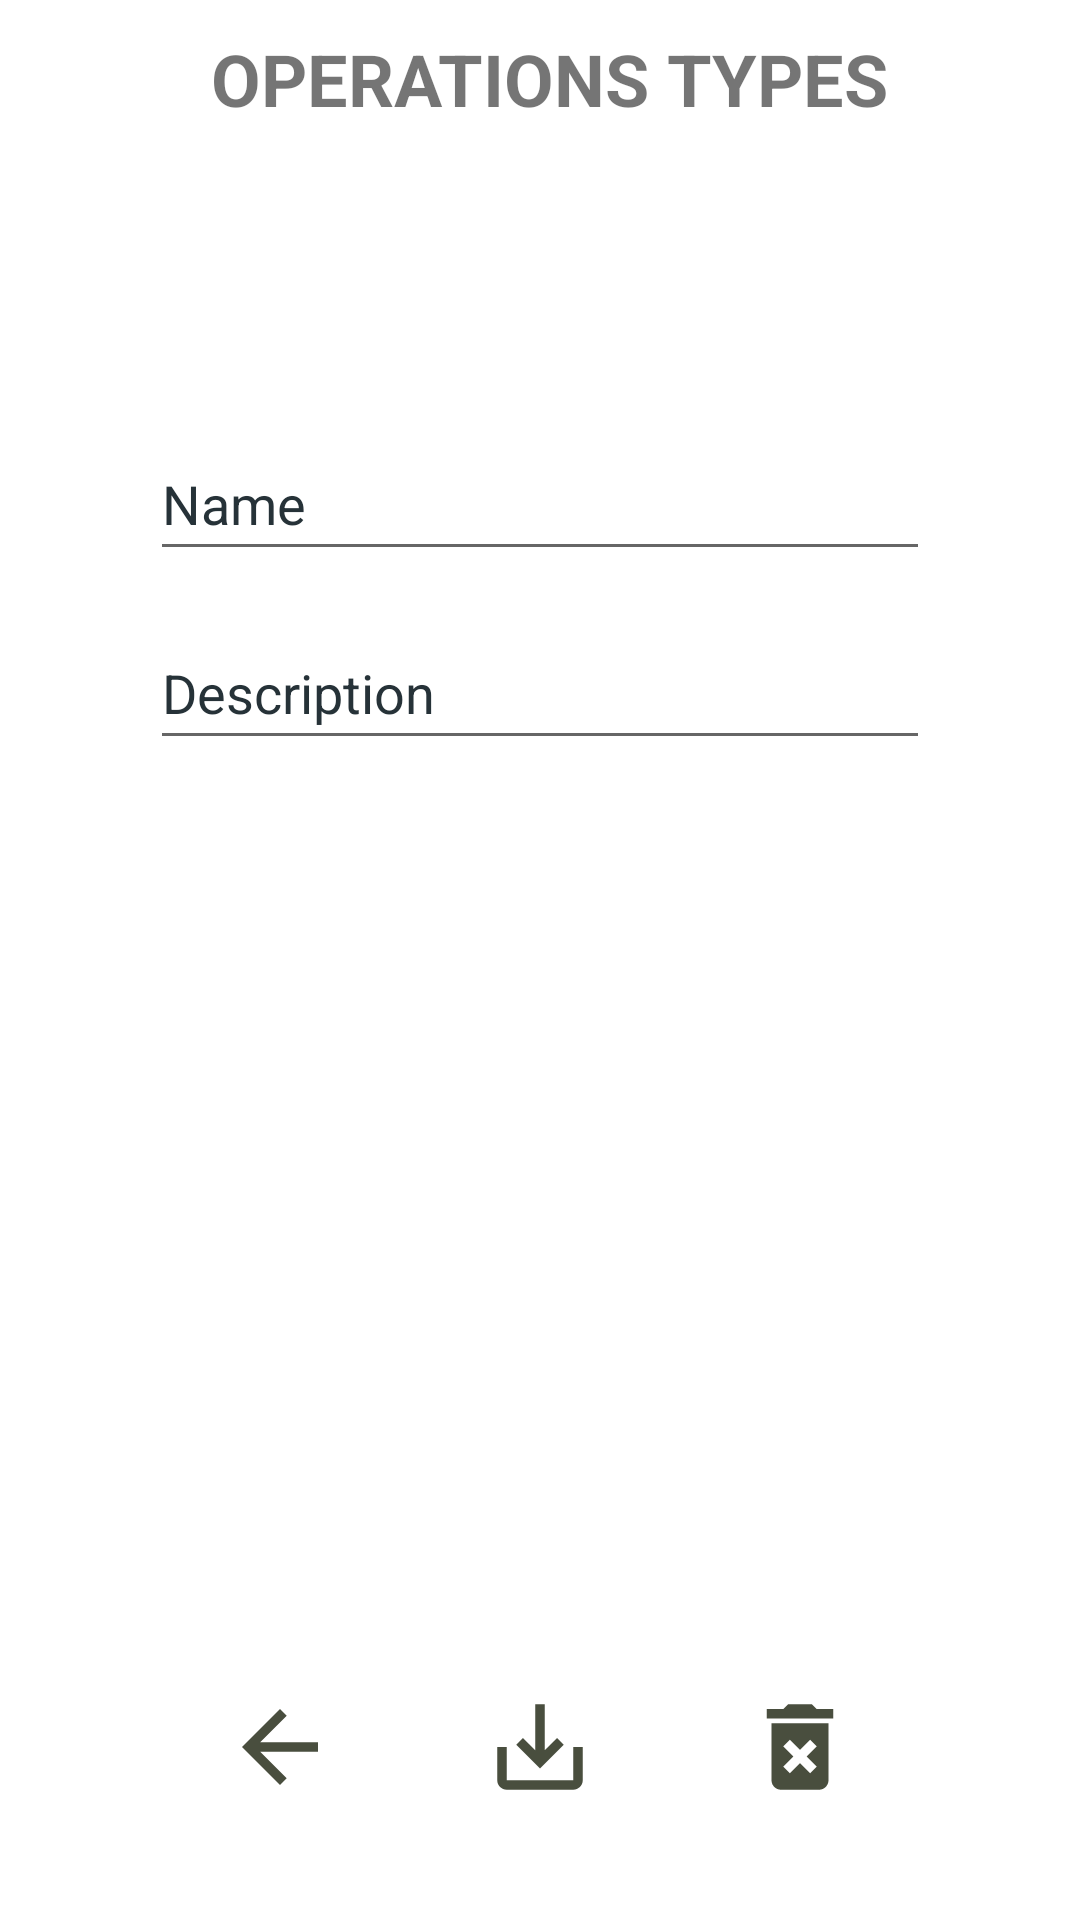

Where to tap for icons on this 1080*1920 app screen, as (x,y):
back: (280,1747)
delete: (800,1747)
save: (540,1747)
